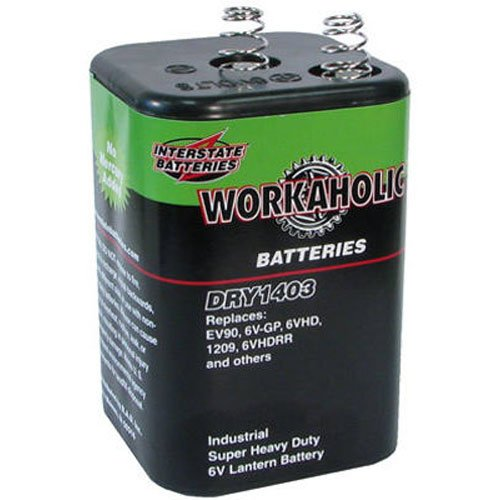6V: (81, 11, 416, 496)
